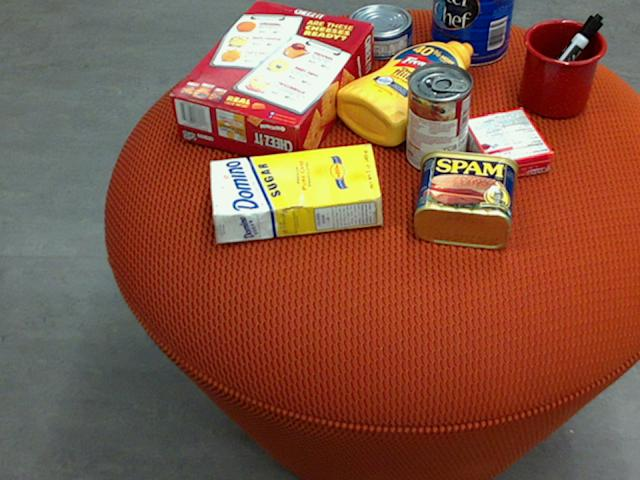cracker_box: (168, 0, 373, 168)
gelatin_box: (463, 109, 554, 182)
large_marker: (526, 11, 602, 104)
master_chef_can: (429, 0, 514, 64)
mug: (519, 18, 607, 117)
mustard_bottle: (335, 40, 473, 144)
potted_meat_can: (412, 149, 517, 248)
sugar_box: (208, 142, 383, 243)
tomato_soup_can: (405, 60, 470, 173)
tuna_fish_can: (347, 3, 412, 56)
